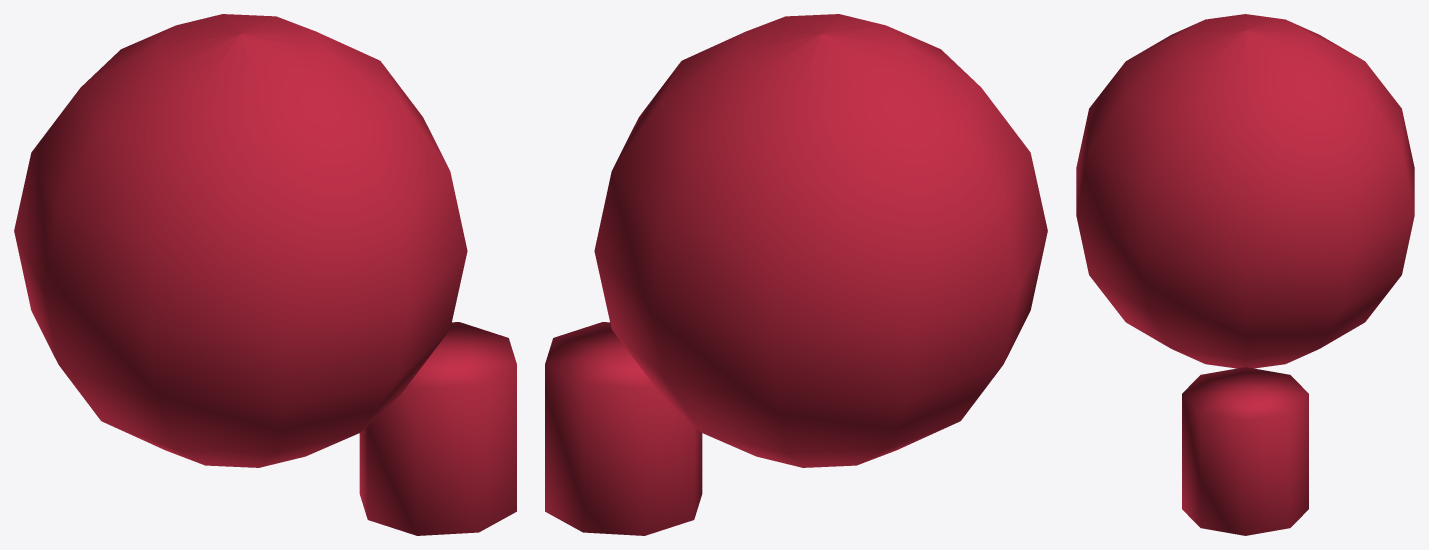
Rendered from berry.obj.
The picture shows the model from 3 angles, left to right: view 1: azimuth 30°, elevation 25°; view 2: azimuth 150°, elevation 25°; view 3: azimuth 270°, elevation 25°; orthographic projection. The views are drawn at different scales.
Bounding box in the file's own units: 1.32 × 1.4 × 1.07.
